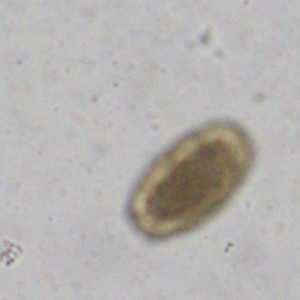Fasciola_hepatica_egg: (127, 118, 262, 243)
